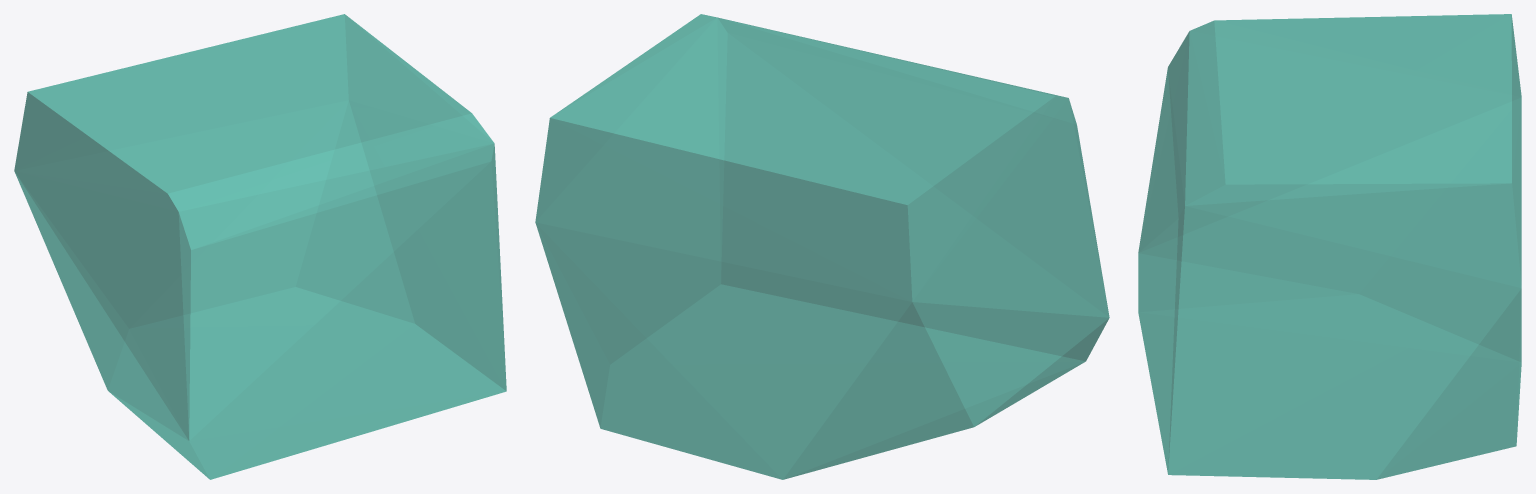
The picture shows the model from 3 angles, left to right: view 1: azimuth 30°, elevation 25°; view 2: azimuth 150°, elevation 25°; view 3: azimuth 270°, elevation 25°; orthographic projection. The views are drawn at different scales.
Parts seen in each view (by area): view 1: Shape_IndexedFaceSet.016_Shape_IndexedFaceSet.16786; view 2: Shape_IndexedFaceSet.016_Shape_IndexedFaceSet.16786; view 3: Shape_IndexedFaceSet.016_Shape_IndexedFaceSet.16786.
Boxes of the visible parts, x1,y1,x2,y2 form: Shape_IndexedFaceSet.016_Shape_IndexedFaceSet.16786: [14, 14, 506, 479]; Shape_IndexedFaceSet.016_Shape_IndexedFaceSet.16786: [535, 14, 1109, 479]; Shape_IndexedFaceSet.016_Shape_IndexedFaceSet.16786: [1138, 14, 1521, 479].
Size of the model in its own units: 0.24 by 0.1828 by 0.2175.
